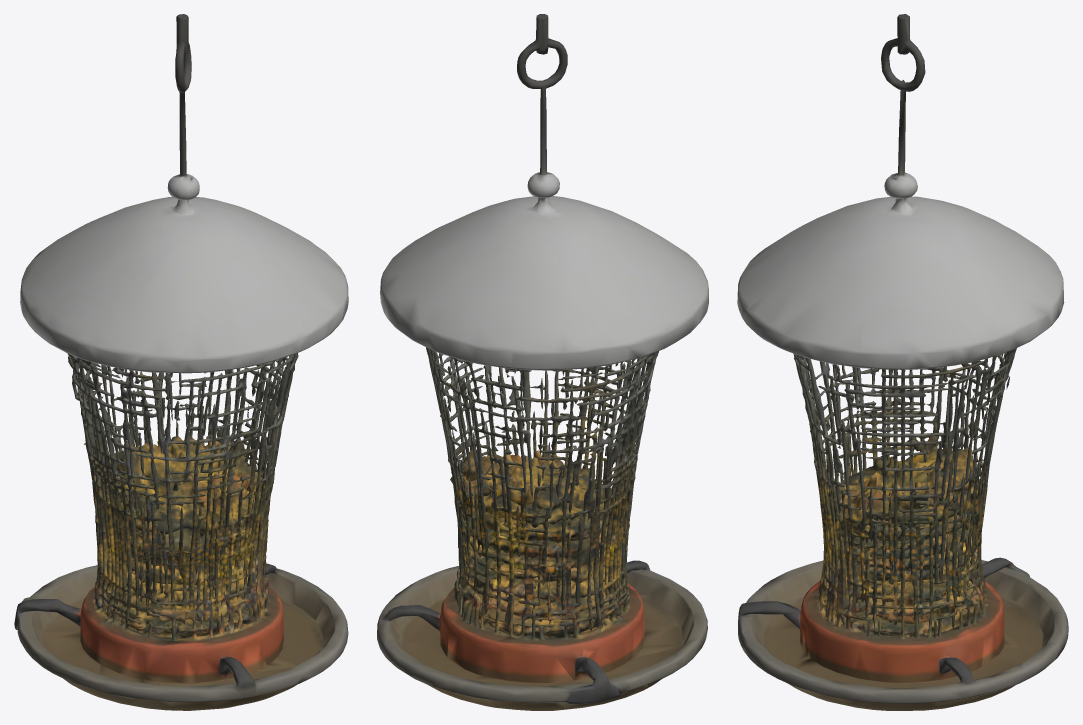
File: prop-bird-feeder.glb
3 renders of one model, left to right at view 1: azimuth 30°, elevation 25°; view 2: azimuth 150°, elevation 25°; view 3: azimuth 270°, elevation 25°, orthographic.
Visible parts, largest first — view 1: tripo_node_eda91046-15e6-456c-a592-eb9a9f298de5; view 2: tripo_node_eda91046-15e6-456c-a592-eb9a9f298de5; view 3: tripo_node_eda91046-15e6-456c-a592-eb9a9f298de5.
Boxes of the visible parts, bbox=[...] form: tripo_node_eda91046-15e6-456c-a592-eb9a9f298de5: bbox=[14, 14, 348, 710]; tripo_node_eda91046-15e6-456c-a592-eb9a9f298de5: bbox=[377, 14, 708, 710]; tripo_node_eda91046-15e6-456c-a592-eb9a9f298de5: bbox=[737, 14, 1068, 710].
Bounding box in the file's own units: 0.6973 × 1.5 × 0.7019.
1 material, 1 textured.
